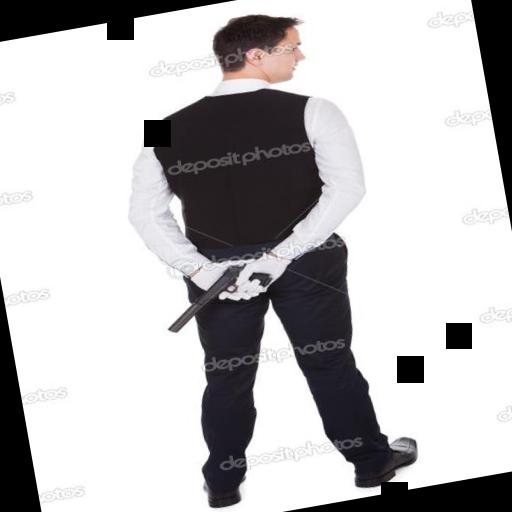Handgun: (150, 248, 280, 344)
